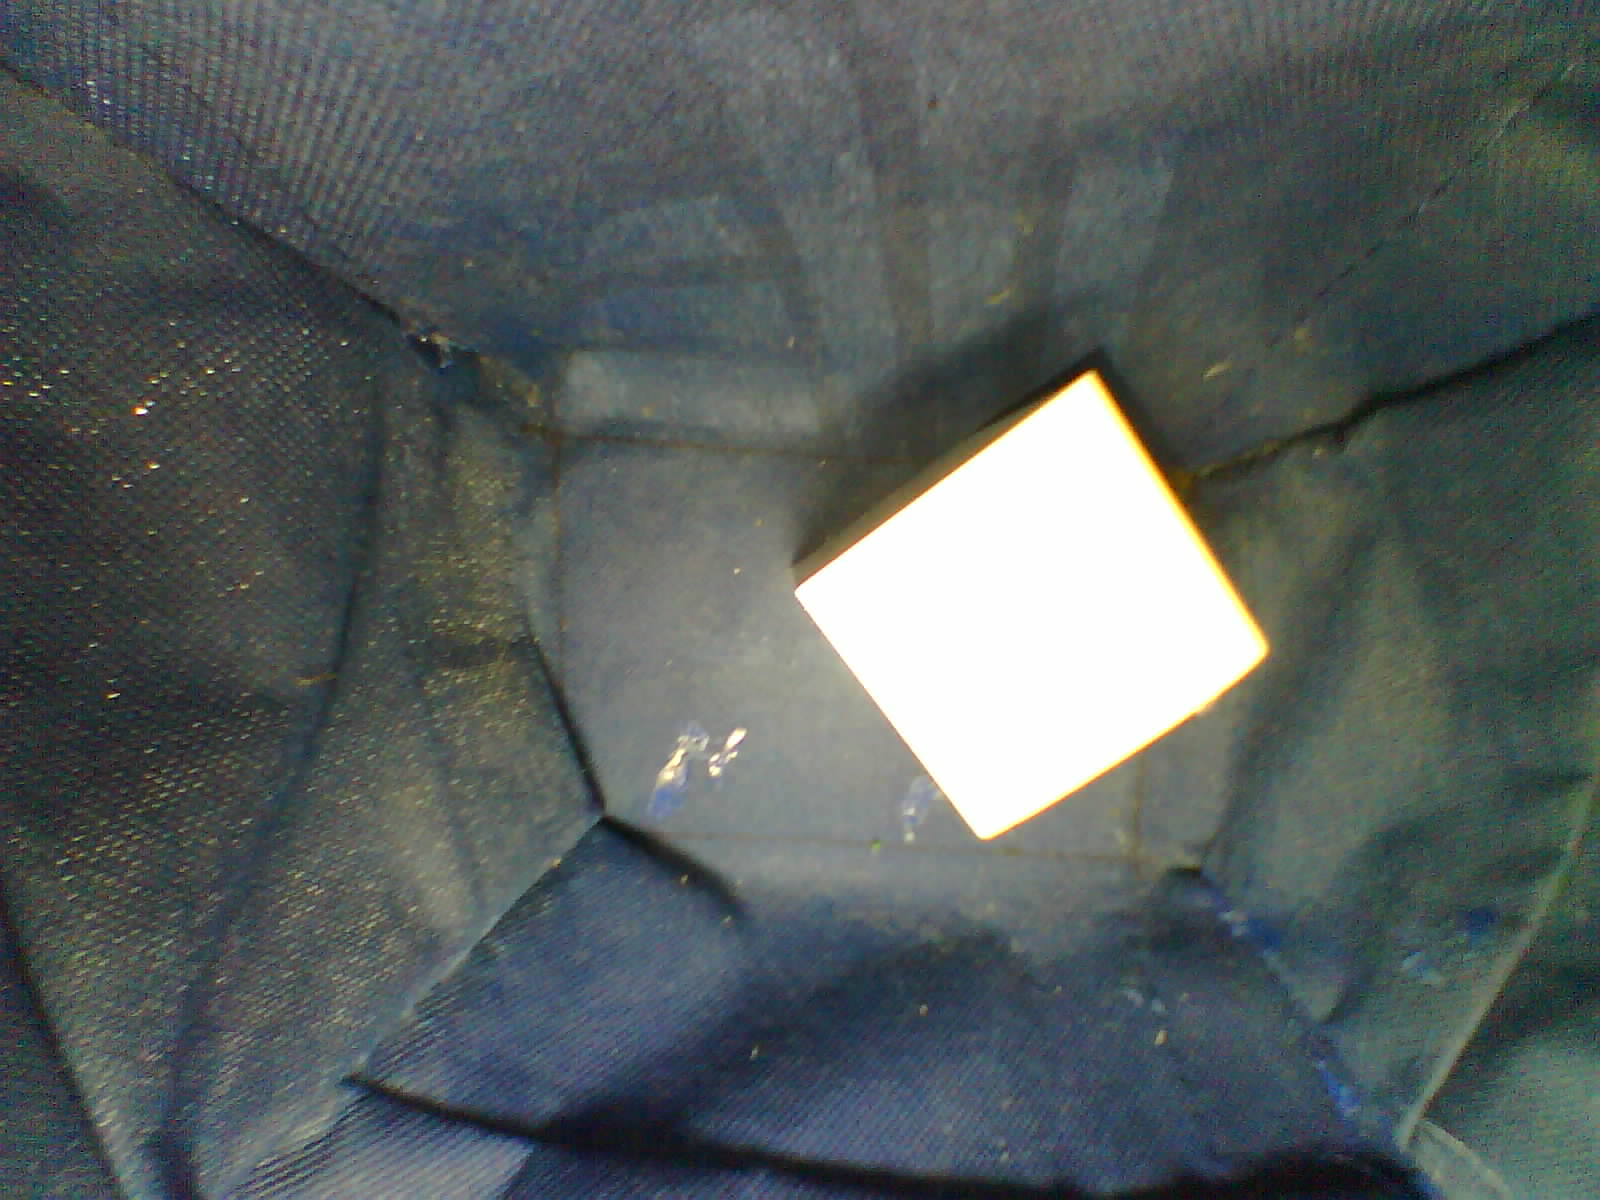cube-hard: (772, 354, 1291, 866)
